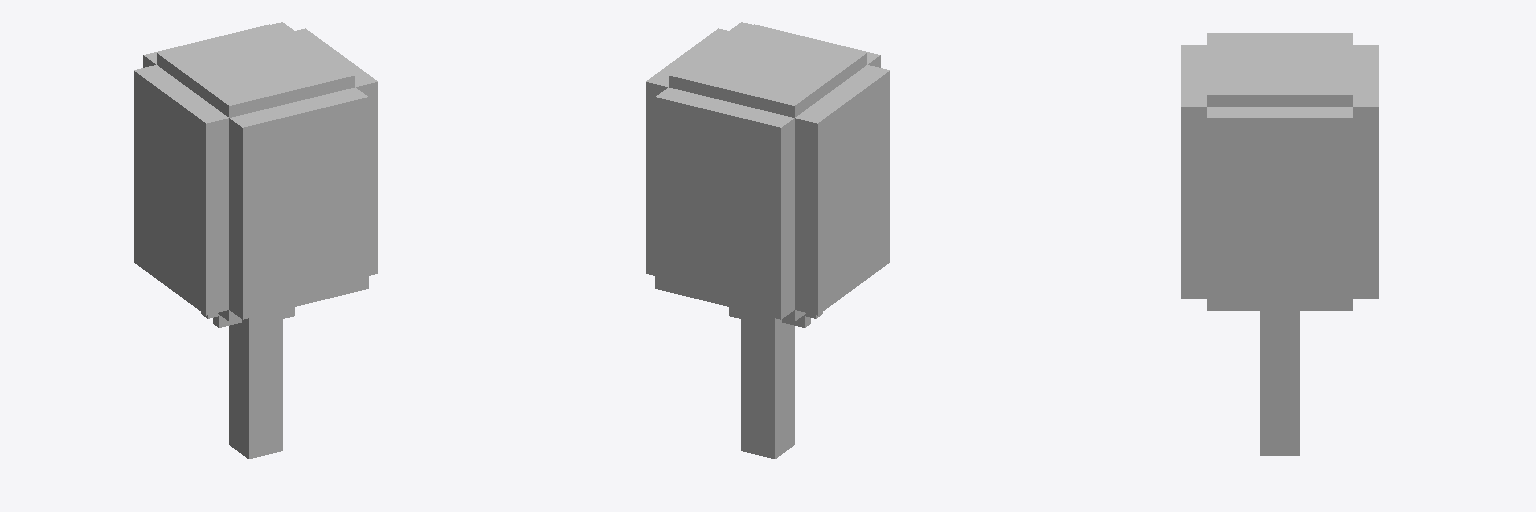
File: arvore2.obj
3 views of the same model, side by side, from view 1: azimuth 30°, elevation 25°; view 2: azimuth 150°, elevation 25°; view 3: azimuth 270°, elevation 25° (orthographic).
Visible parts, largest first — view 1: object 1; view 2: object 1; view 3: object 1.
Part boxes in pixels (bbox=[...]): object 1: bbox=[134, 22, 377, 458]; object 1: bbox=[646, 22, 889, 458]; object 1: bbox=[1181, 33, 1378, 455].
Size of the model in its own units: 1.5 by 3.2 by 1.5.